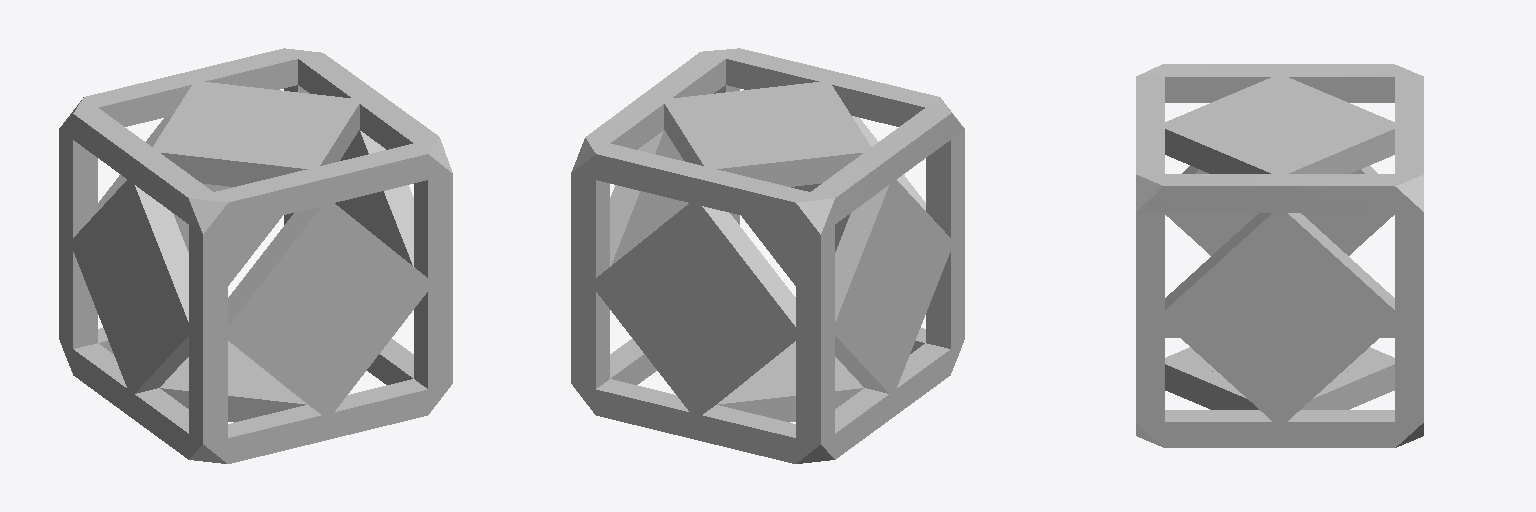
File: OrigamiCube.obj
The picture shows the model from 3 angles: view 1: azimuth 30°, elevation 25°; view 2: azimuth 150°, elevation 25°; view 3: azimuth 270°, elevation 25°; orthographic projection.
Visible parts, largest first — view 1: Cube, Cube.003_Cube.008, Cube.002_Cube.007, Cube.001_Cube.003; view 2: Cube, Cube.003_Cube.008, Cube.002_Cube.007, Cube.001_Cube.003; view 3: Cube, Cube.002_Cube.007, Cube.001_Cube.003.
Boxes of the visible parts, x1=… form: Cube: x1=59, y1=48, x2=452, y2=463; Cube.003_Cube.008: x1=98, y1=116, x2=432, y2=415; Cube.002_Cube.007: x1=70, y1=130, x2=413, y2=396; Cube.001_Cube.003: x1=153, y1=82, x2=359, y2=422; Cube: x1=571, y1=48, x2=964, y2=463; Cube.003_Cube.008: x1=596, y1=116, x2=925, y2=414; Cube.002_Cube.007: x1=610, y1=130, x2=953, y2=393; Cube.001_Cube.003: x1=664, y1=82, x2=870, y2=422; Cube: x1=1136, y1=64, x2=1423, y2=447; Cube.002_Cube.007: x1=1159, y1=166, x2=1399, y2=426; Cube.001_Cube.003: x1=1165, y1=77, x2=1400, y2=409.
Size of the model in its own units: 2.01 by 2 by 2.